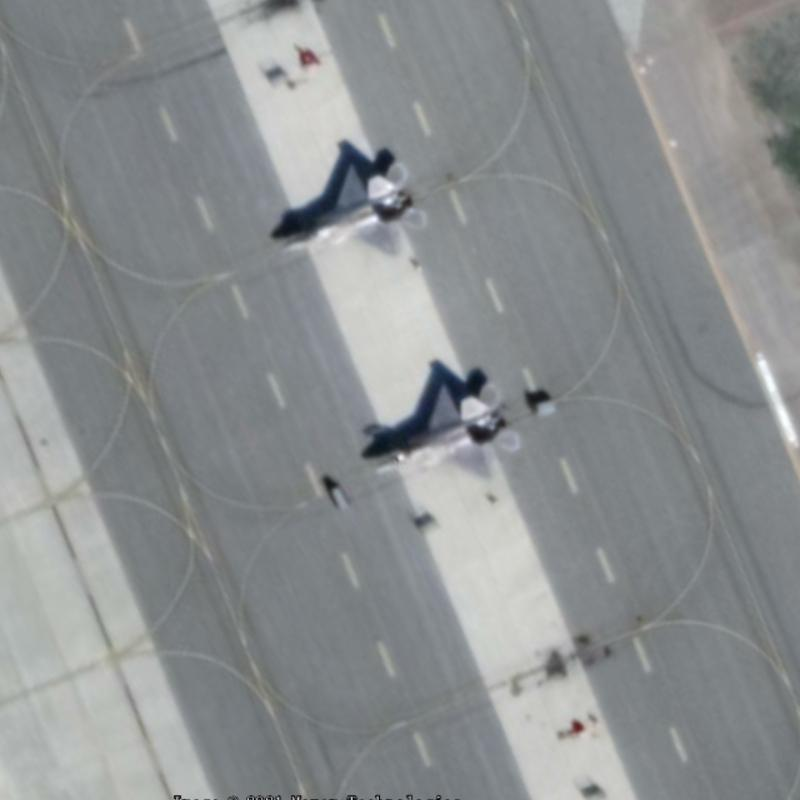A15: (350, 371, 522, 489), (274, 150, 440, 266)
